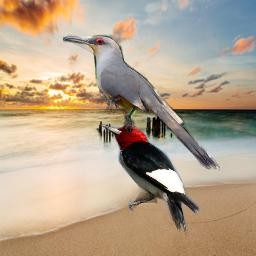Cuckoo: (63, 34, 220, 173)
Woodpecker: (99, 124, 202, 237)
